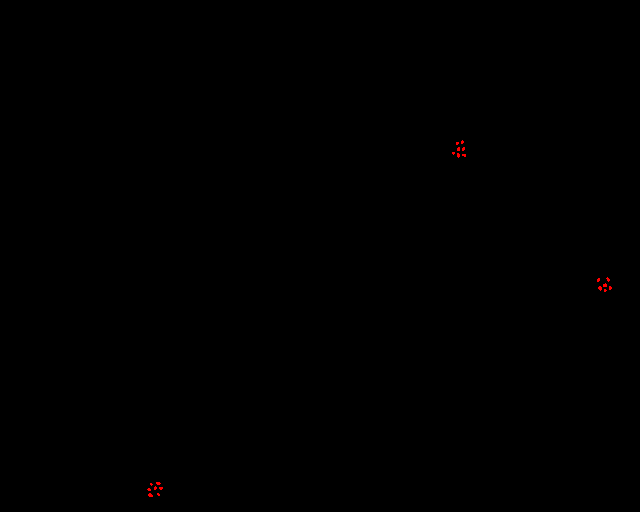Target: (606, 277, 610, 282), (598, 286, 602, 291), (148, 493, 153, 497), (603, 283, 607, 287), (457, 153, 460, 158), (156, 482, 161, 485), (461, 140, 464, 144), (457, 147, 460, 151), (462, 147, 465, 151), (462, 154, 466, 157), (597, 278, 600, 282), (609, 286, 612, 290), (154, 486, 157, 490), (159, 487, 163, 490), (147, 488, 151, 491), (456, 142, 459, 145), (452, 152, 455, 155), (604, 289, 607, 292), (150, 483, 153, 486), (157, 493, 160, 496)
